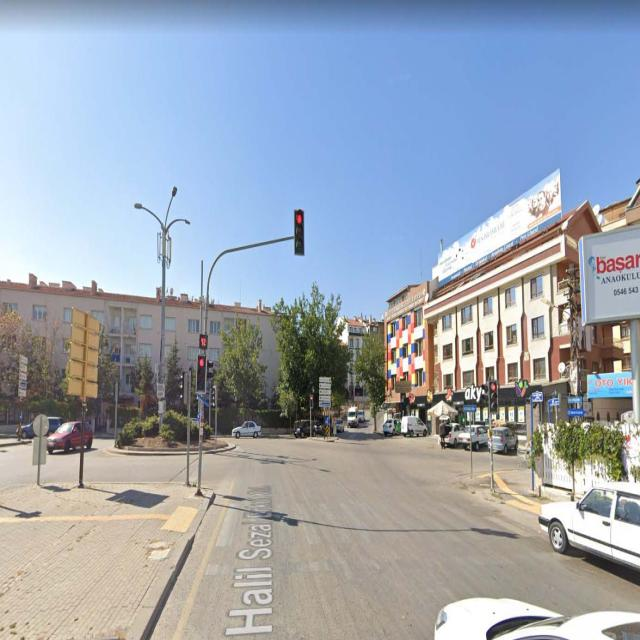kirmizi: (196, 354, 207, 392), (294, 208, 303, 254), (490, 381, 498, 414)
